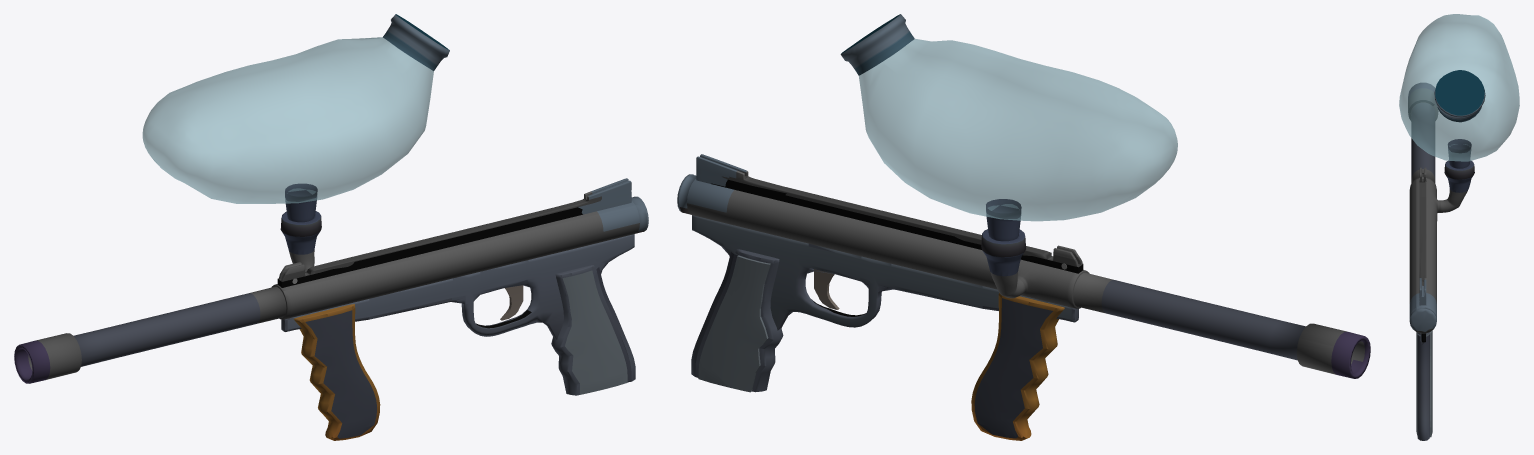
The model's file is paint_ball.fbx.
3 renders of one model, left to right at view 1: azimuth 30°, elevation 25°; view 2: azimuth 150°, elevation 25°; view 3: azimuth 270°, elevation 25°, orthographic. The views are drawn at different scales.
Visible parts, largest first — view 1: polySurface114; view 2: polySurface114; view 3: polySurface114.
Boxes of the visible parts, box(x1,y1,x2,y2) form: polySurface114: box(14, 14, 648, 440); polySurface114: box(677, 14, 1370, 440); polySurface114: box(1399, 14, 1519, 440).
Bounding box in the file's own units: 453 × 275 × 102.
2 materials, 1 textured.
